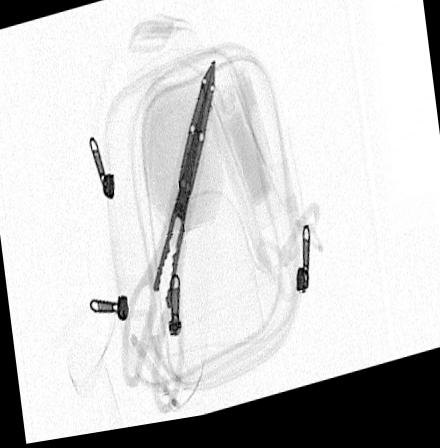Scissors: (117, 62, 219, 425)
